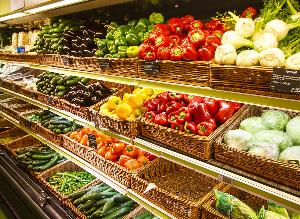bell_pepper: (148, 85, 244, 141), (142, 14, 228, 68), (72, 120, 160, 168), (100, 10, 162, 60), (98, 77, 160, 127), (47, 168, 101, 196)
cucumber: (69, 185, 139, 219), (36, 110, 78, 136), (16, 146, 58, 172), (36, 72, 76, 98), (35, 20, 63, 56)
eggplant: (66, 73, 122, 109), (61, 22, 109, 60)
